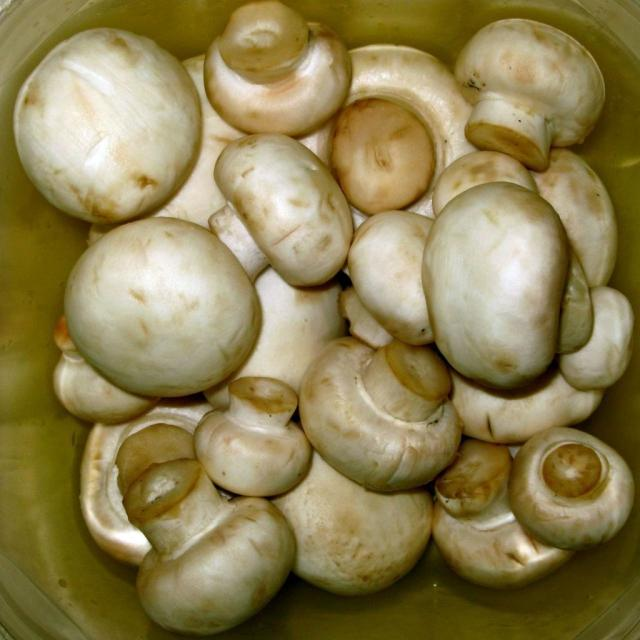Mushroom: (422, 180, 600, 390), (11, 33, 201, 223), (66, 216, 258, 402), (292, 45, 472, 224), (134, 463, 304, 632), (68, 397, 236, 557), (297, 336, 461, 494), (201, 133, 355, 297), (264, 446, 436, 592), (130, 53, 266, 231), (456, 21, 614, 171), (206, 3, 358, 137), (212, 266, 358, 397), (188, 371, 328, 497), (508, 428, 632, 556), (322, 89, 438, 208), (340, 204, 426, 346), (47, 321, 155, 431), (544, 146, 620, 294), (556, 285, 638, 390), (425, 148, 539, 212), (111, 412, 192, 490), (430, 441, 508, 516)
